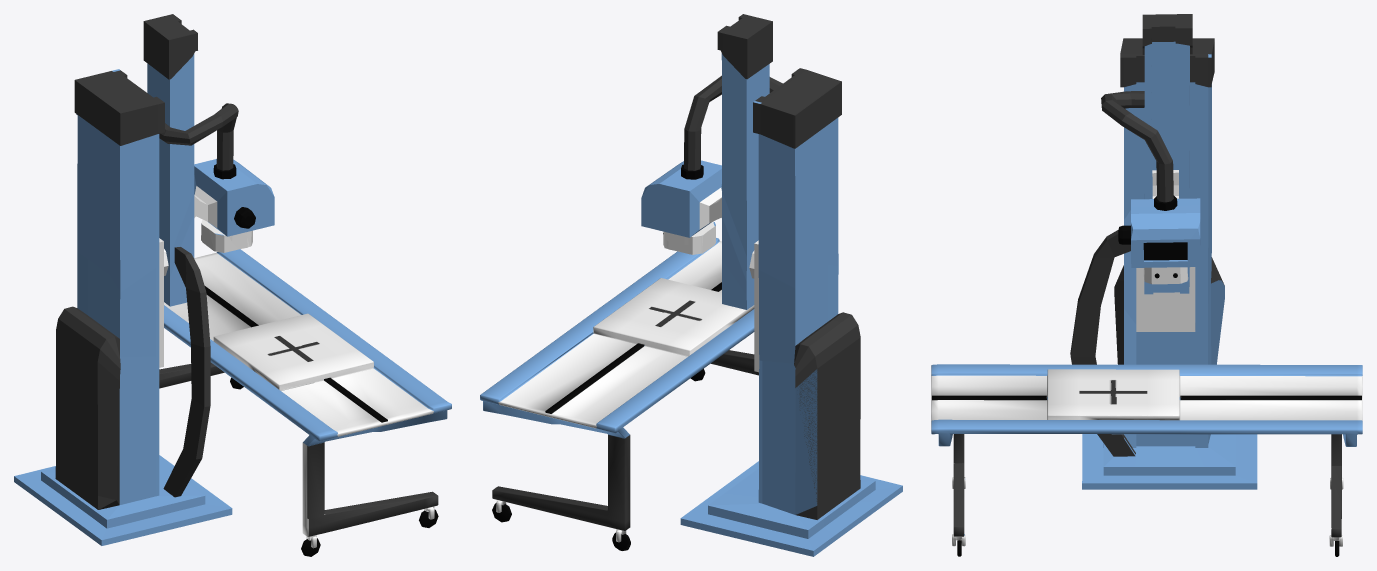
Rendered from hospital_x-ray_with_table.glb.
3 renders of one model, left to right at view 1: azimuth 30°, elevation 25°; view 2: azimuth 150°, elevation 25°; view 3: azimuth 270°, elevation 25°, orthographic. The views are drawn at different scales.
Visible parts, largest first — view 1: Plane.001, Plane; view 2: Plane.001, Plane; view 3: Plane.001, Plane.
Part boxes in pixels (x1,y1,x2,y2): Plane.001: (14,14,274,545); Plane: (159,249,451,548); Plane.001: (641,14,902,556); Plane: (480,238,758,542); Plane.001: (1070,14,1257,489); Plane: (931,364,1362,546).
Bounding box in the file's own units: 5.61 × 9 × 7.64.
Materials: 6 (3 with a texture image).
